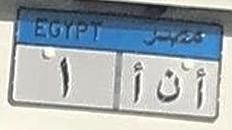1: (56, 56, 71, 98)
alif: (128, 59, 146, 105), (190, 67, 209, 108)
noon: (154, 71, 181, 102)
